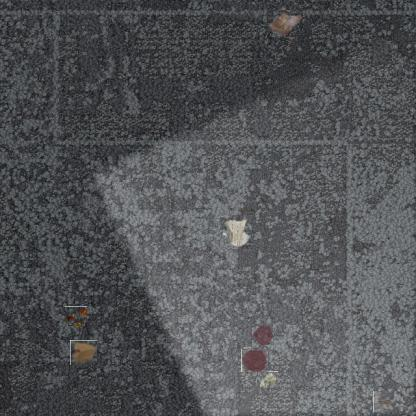dirty: (221, 215, 252, 249), (269, 7, 301, 39), (70, 340, 97, 365), (373, 391, 394, 412), (67, 305, 86, 325), (256, 371, 278, 388)
liquid: (242, 348, 268, 373), (251, 324, 273, 348)
